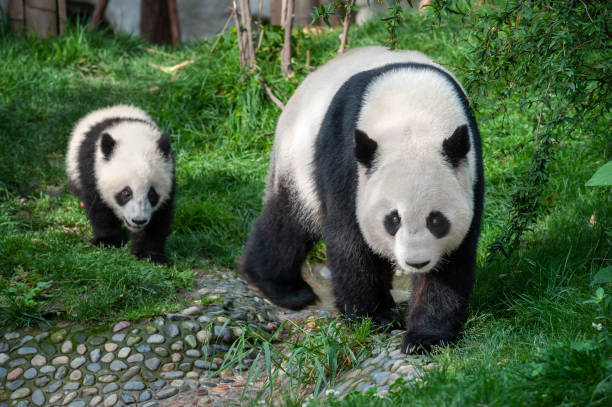panda: (330, 125, 492, 294), (77, 120, 189, 233)
